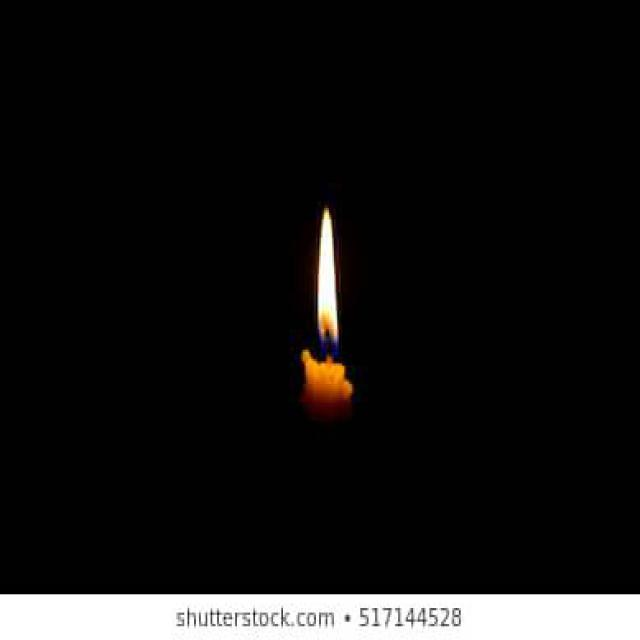Fire: (316, 208, 339, 350)
